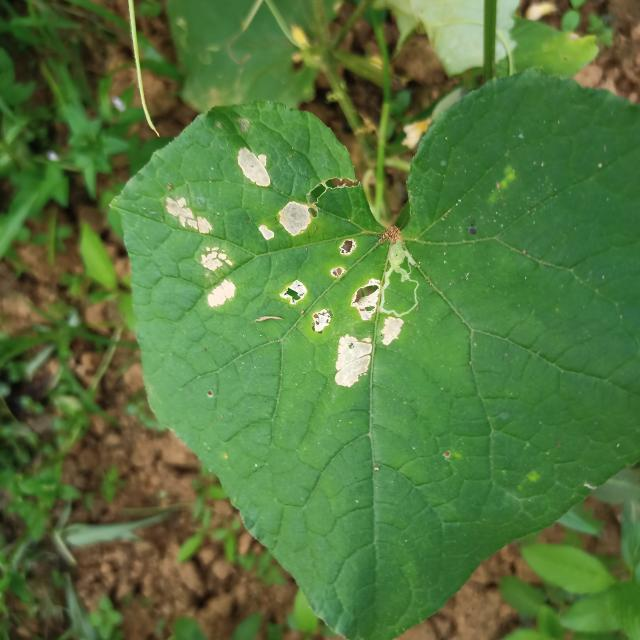disease_cucumber: (239, 147, 404, 389), (164, 196, 235, 310)
